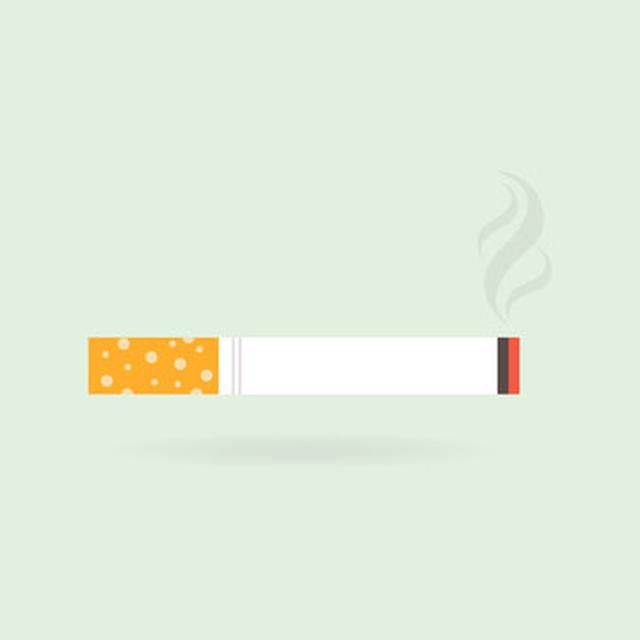Cigarette: (86, 334, 521, 397)
